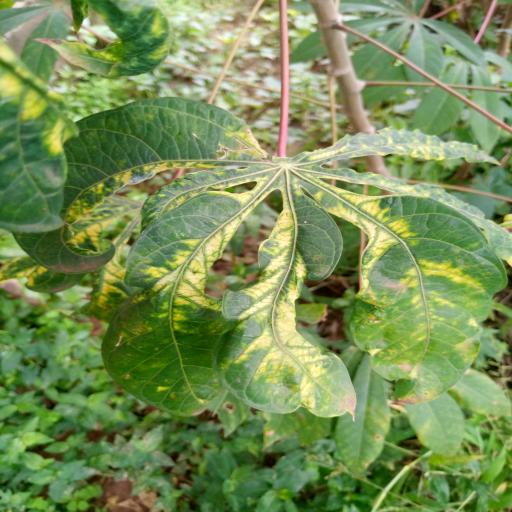Cassava_Mosaic: (20, 94, 512, 440)
